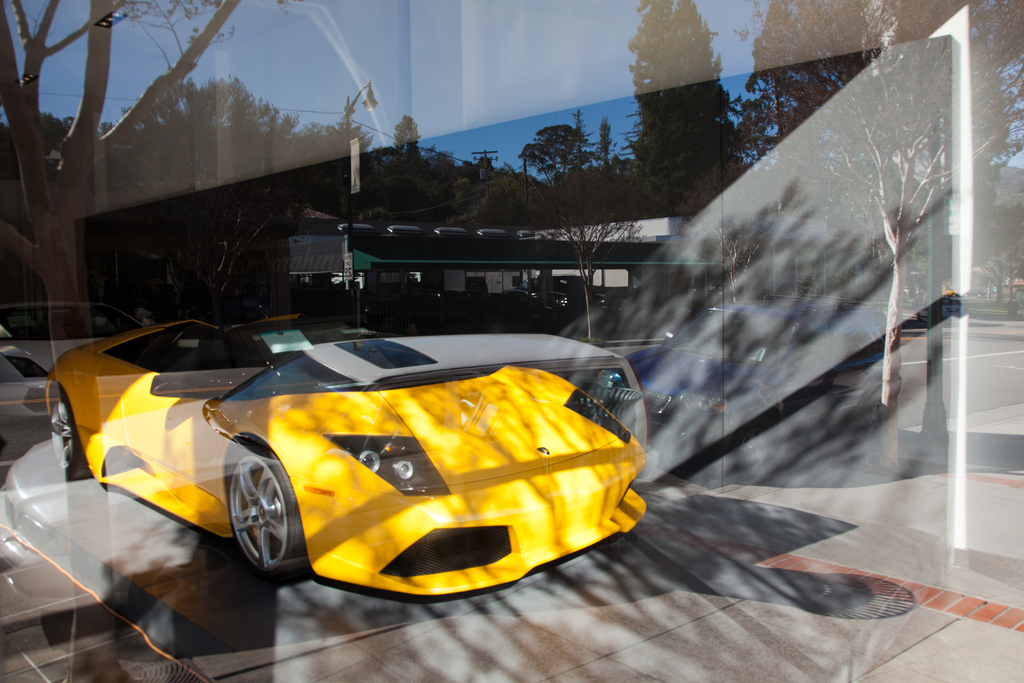Car: (0, 292, 903, 596)
